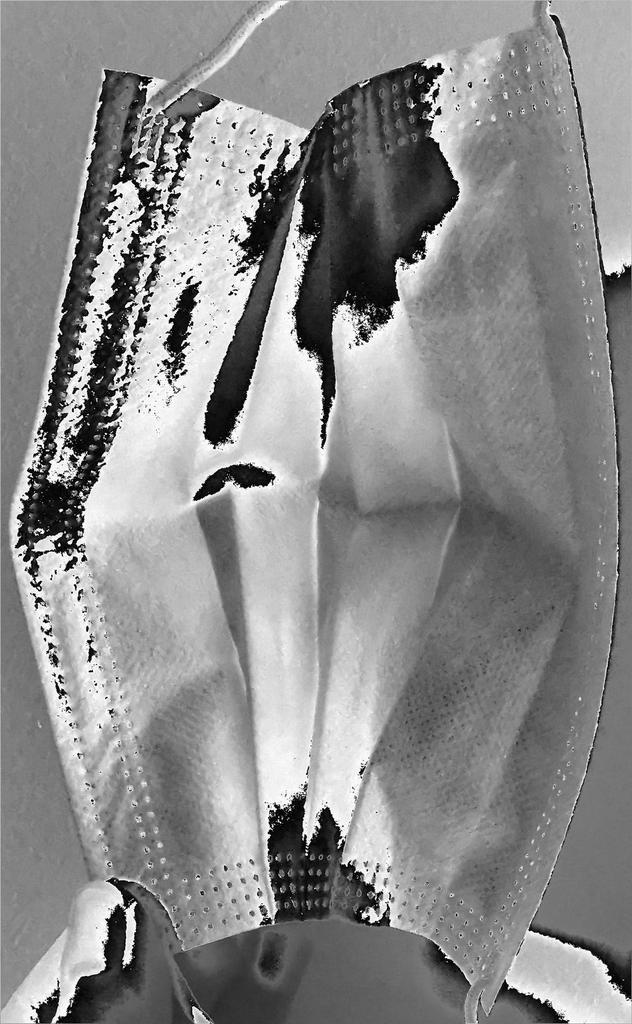High GSM: (99, 142, 571, 878)
